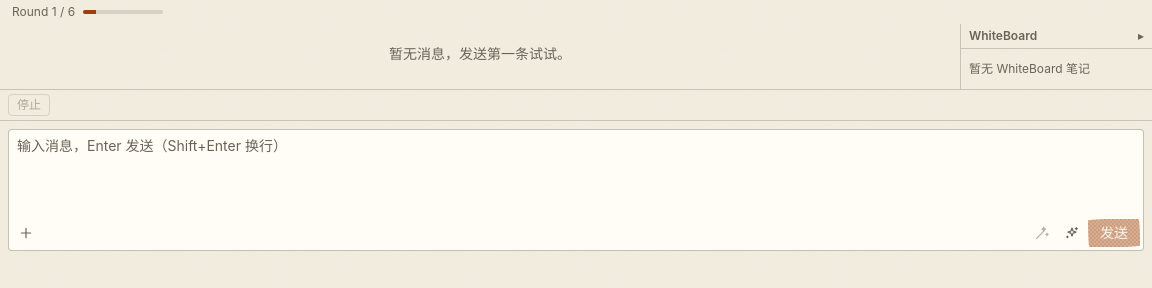
Test: GroupConversationView — stop & failure notices (SPEC 5.8.1-5, 5.8.3) › shows the failure summary with a retry affordance (5.8.3-1c)
Step 1. Type "讨论" into the text box with placeholder "输入消息，Enter 发送（Shift+Enter 换行）" → (576, 190), box [8,129,1144,251]
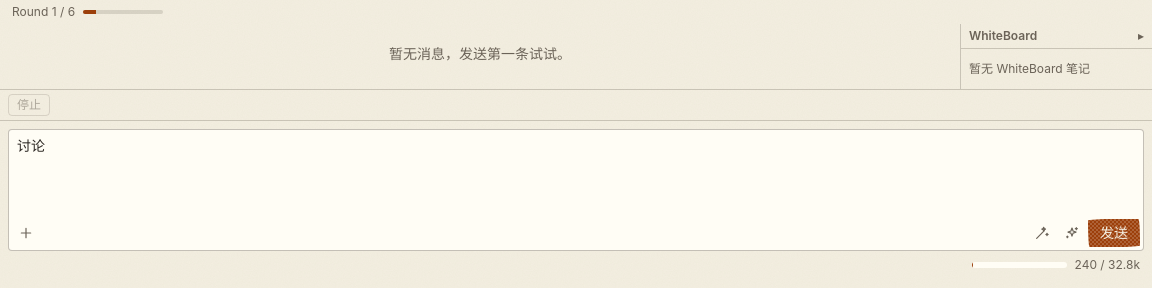
Step 2. Press Enter in the text box with placeholder "输入消息，Enter 发送（Shift+Enter 换行）", box [8,129,1144,251]
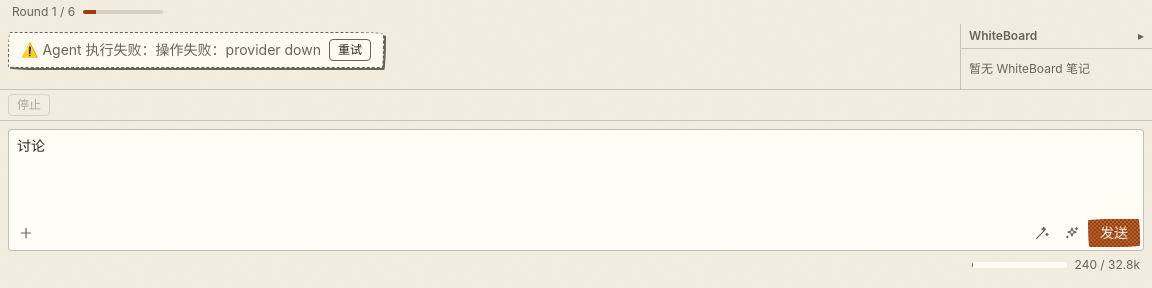
Now the text "⚠️ Agent 执行失败：操作失败：provider down" is shown, box [21,40,321,60]
Now the button "重试" is shown, box [329,39,371,61]
